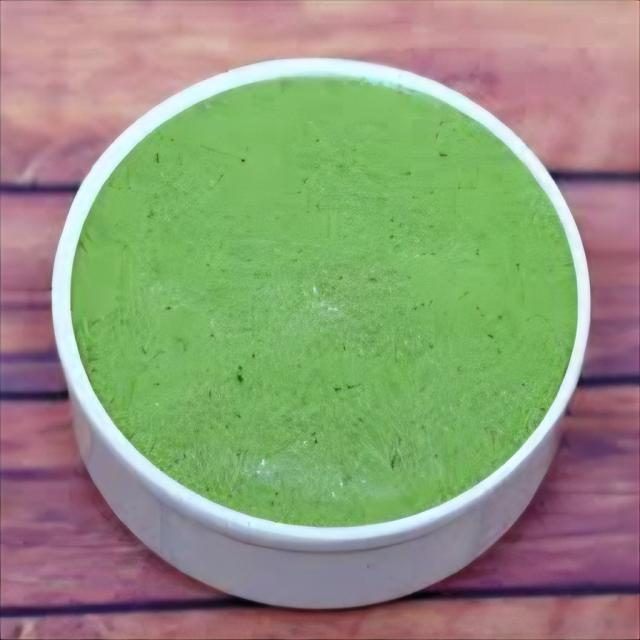GREEN CHUTNEY: (71, 78, 575, 524)
